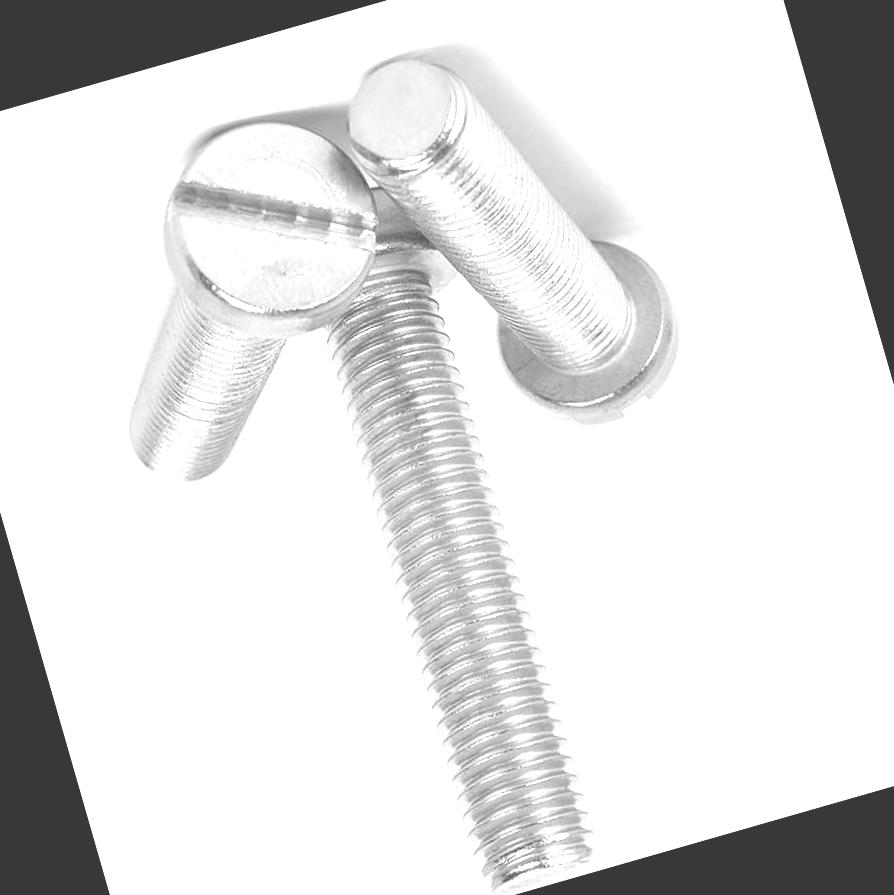screw: (137, 82, 400, 362)
